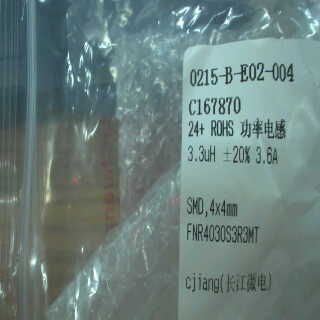3.3uH: (184, 142, 225, 168)
